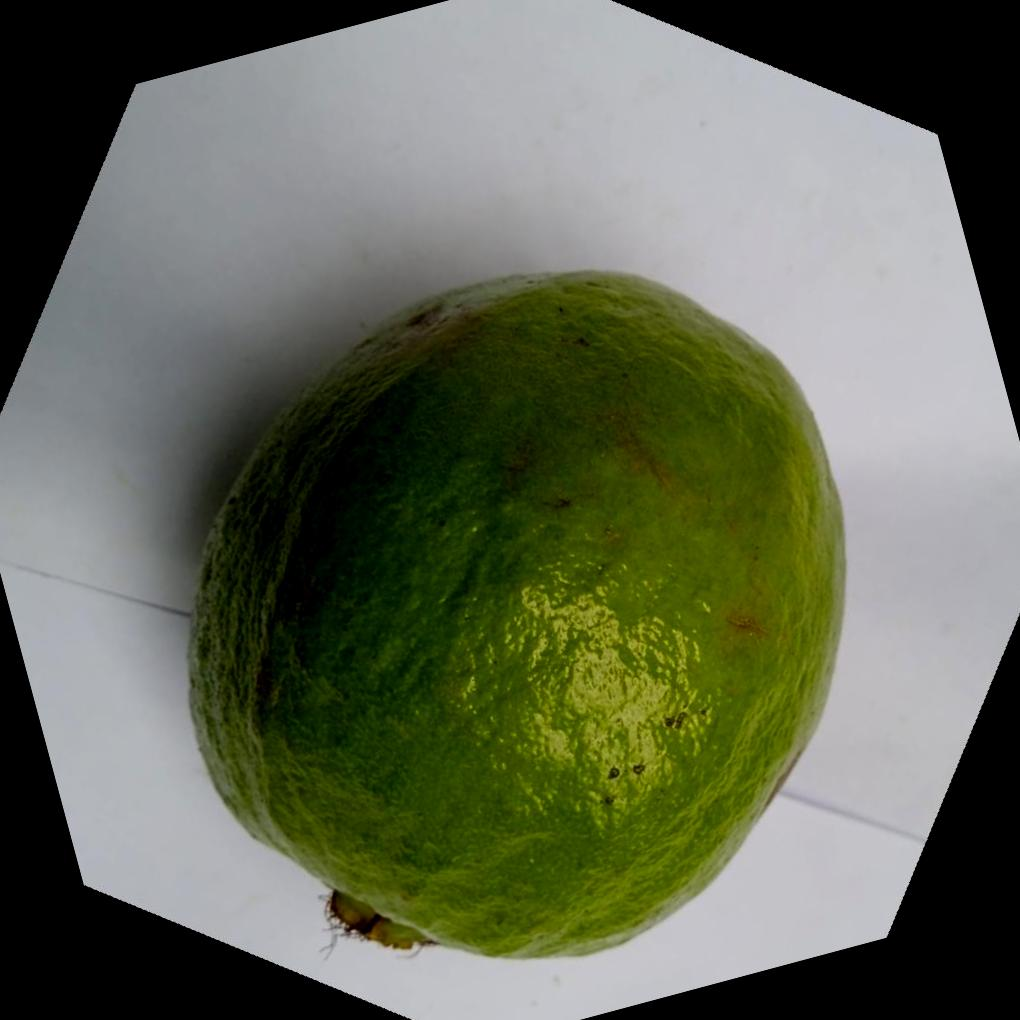FreshGuava: (184, 262, 848, 957)
